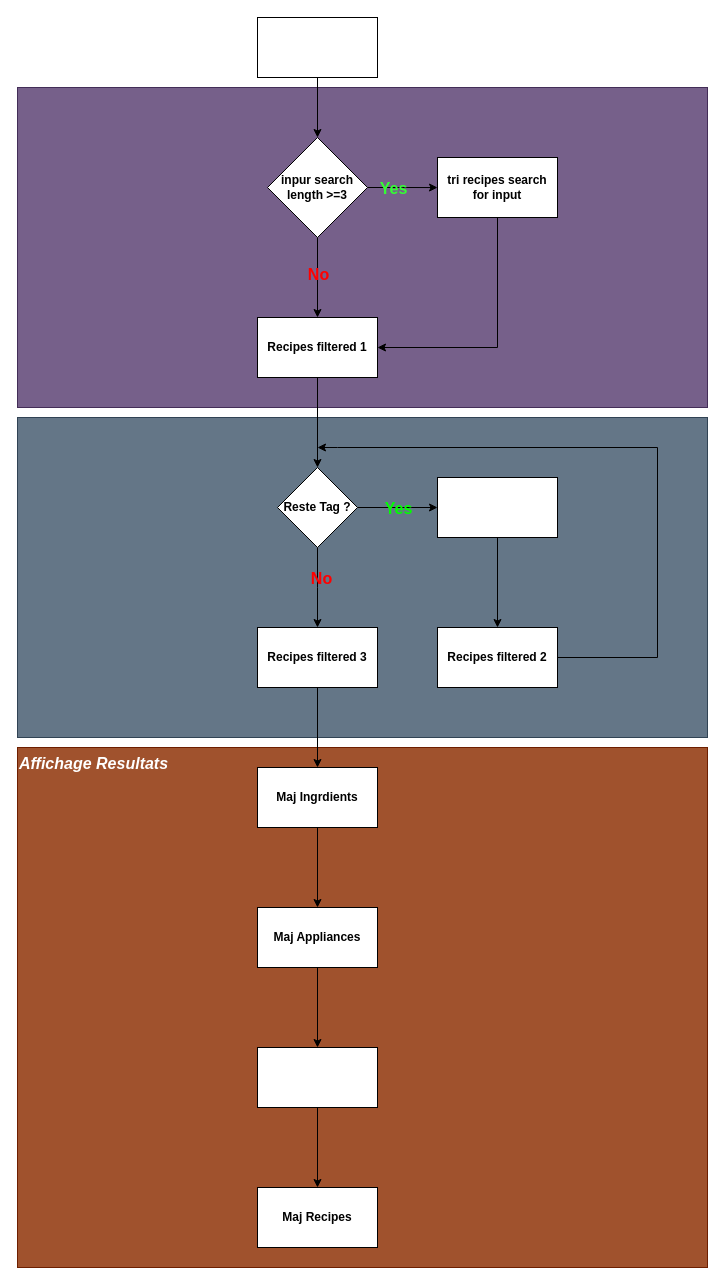
Some shapes in this 725 by 1285 pixel diagram are drawn without their labels. Each missing label, with the box of its shape:
All Recipes: (256, 16, 378, 78)
Etape 1: (16, 86, 708, 408)
Etape 2: (16, 416, 708, 738)
filter tag: (436, 476, 558, 538)
Maj Ustensils: (256, 1046, 378, 1108)
